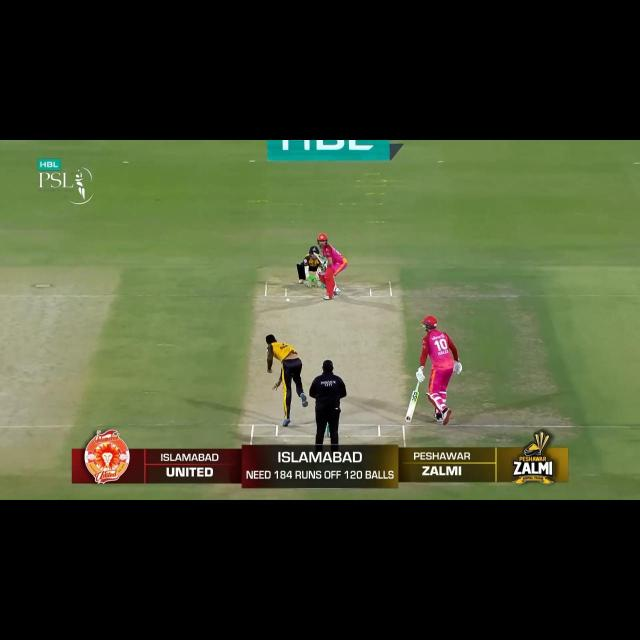bat: (404, 391, 420, 423), (312, 251, 326, 264)
toe: (404, 415, 413, 424), (312, 251, 317, 256)
